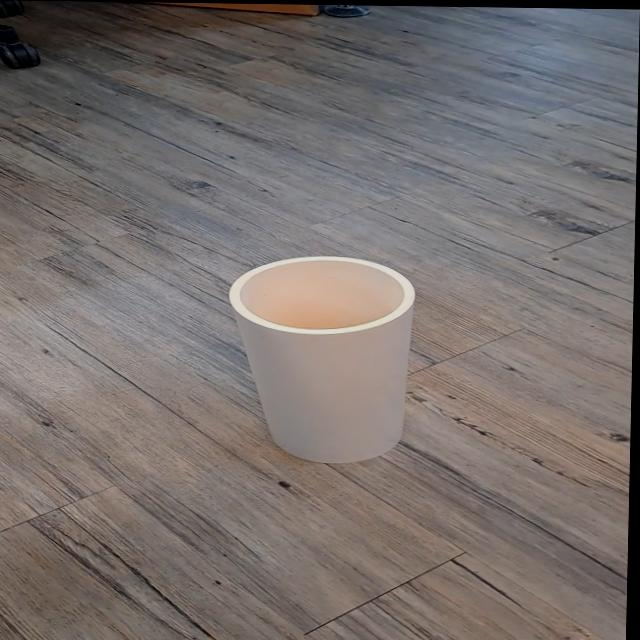CORAL: (195, 235, 496, 477)
